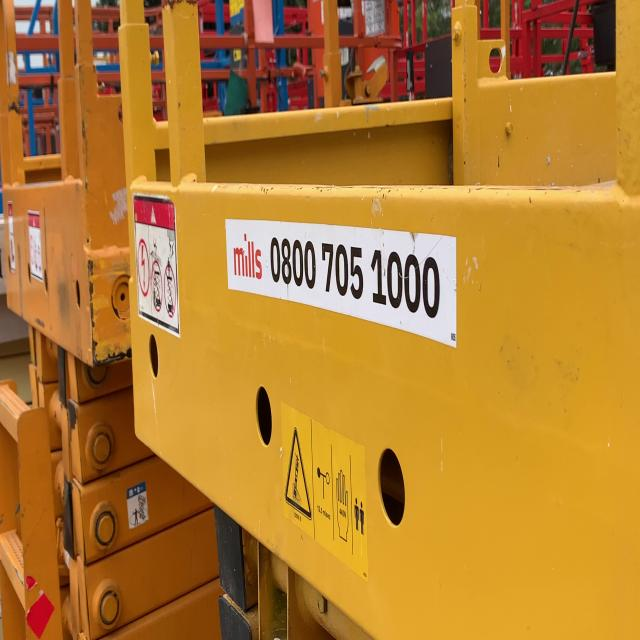Adesivo Longo: (224, 217, 458, 350)
